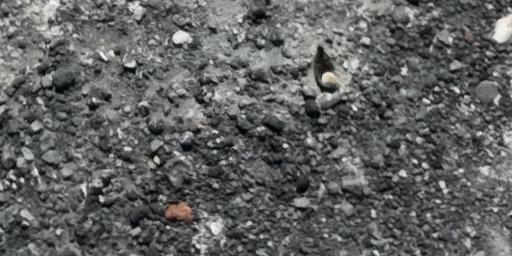skua: (298, 38, 359, 103)
